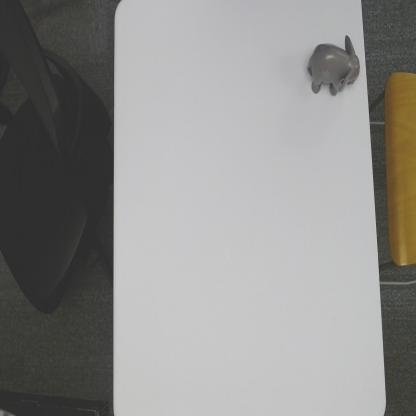Elephant: (307, 34, 360, 96)
